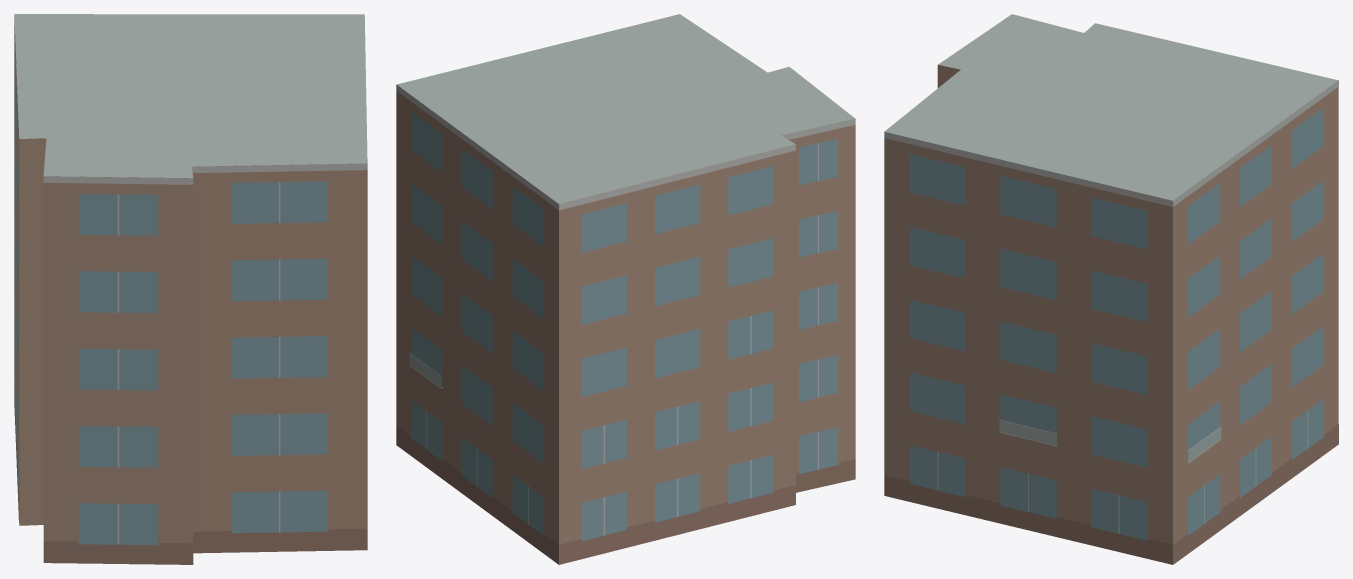
File: survey-upis-32870624.glb
3 views of the same model, side by side, from view 1: azimuth 30°, elevation 25°; view 2: azimuth 150°, elevation 25°; view 3: azimuth 270°, elevation 25° (orthographic). The views are drawn at different scales.
Parts seen in each view (by area): view 1: survey-upis-32870624.tmp; view 2: survey-upis-32870624.tmp; view 3: survey-upis-32870624.tmp.
Boxes of the visible parts, x1,y1,x2,y2 form: survey-upis-32870624.tmp: (14, 14, 367, 564); survey-upis-32870624.tmp: (396, 14, 855, 564); survey-upis-32870624.tmp: (884, 14, 1338, 564).
Bounding box in the file's own units: 15.64 × 14.2 × 16.08.
